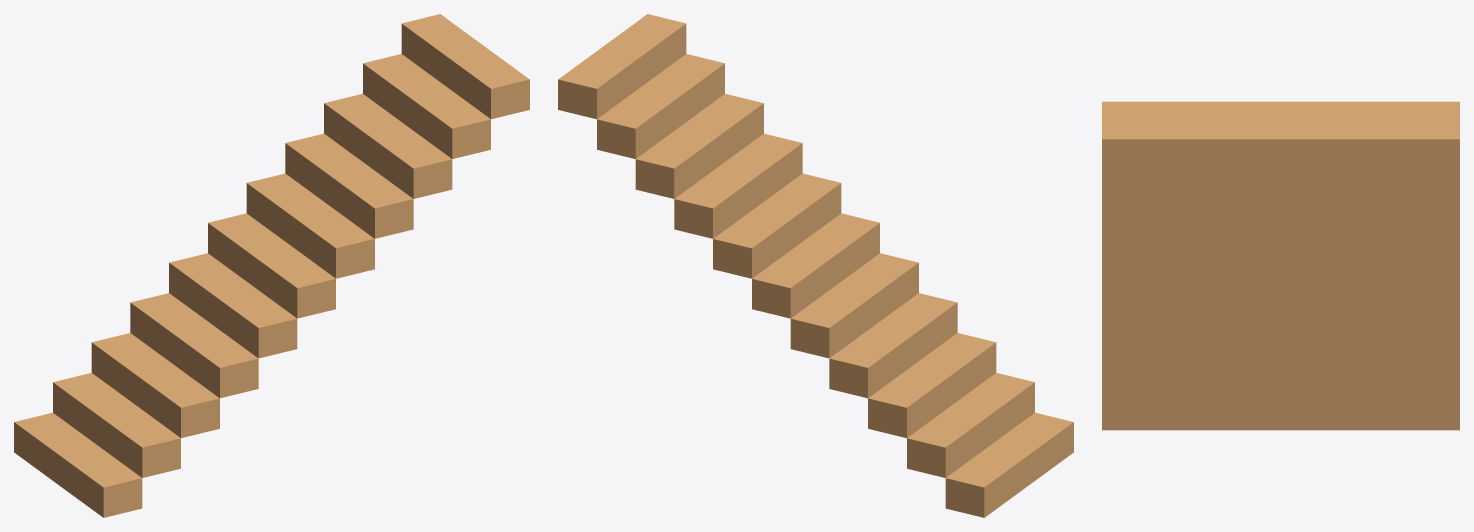
File: Escalera1.3.fbx
The picture shows the model from 3 angles, left to right: view 1: azimuth 30°, elevation 25°; view 2: azimuth 150°, elevation 25°; view 3: azimuth 270°, elevation 25°; orthographic projection. The views are drawn at different scales.
Parts seen in each view (by area): view 1: Escalera_Escalada; view 2: Escalera_Escalada; view 3: Escalera_Escalada.
Part boxes in pixels (left/top/right/bottom): Escalera_Escalada: left=14, top=14, right=529, bottom=517; Escalera_Escalada: left=558, top=14, right=1073, bottom=517; Escalera_Escalada: left=1102, top=101, right=1459, bottom=430.
Size of the model in its own units: 2200 by 1650 by 800.
